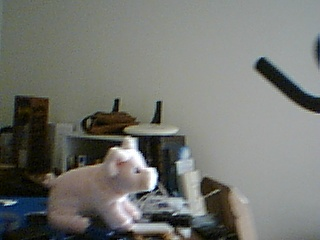piggy: (43, 134, 159, 234)
